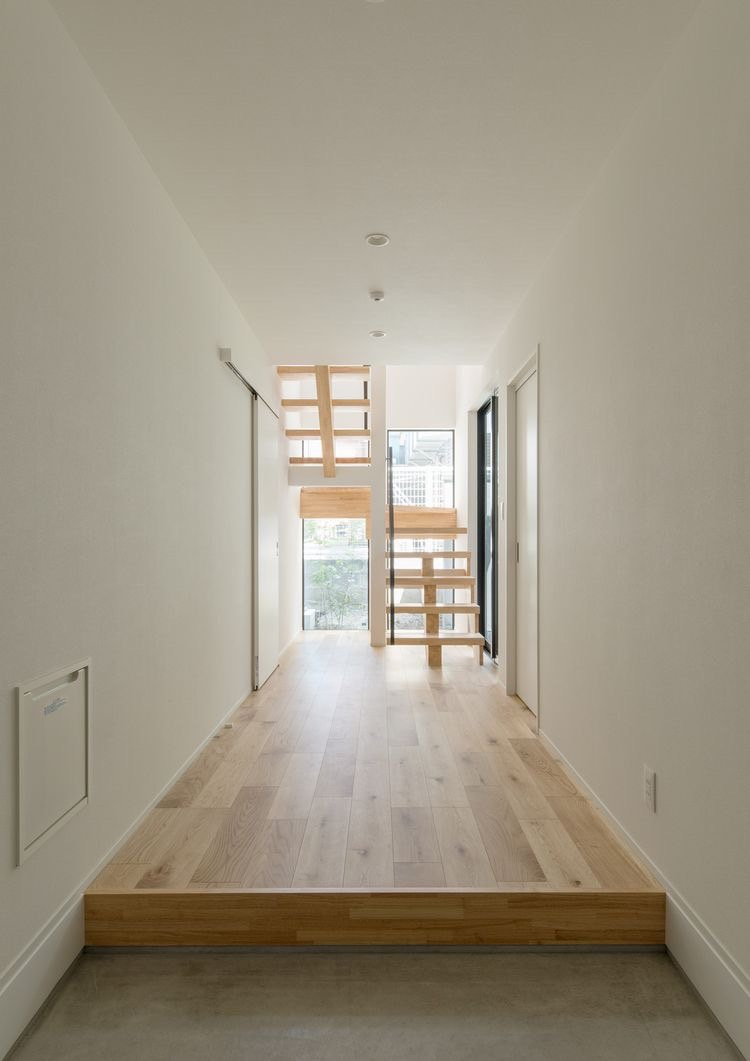floor: (2, 951, 741, 1060)
